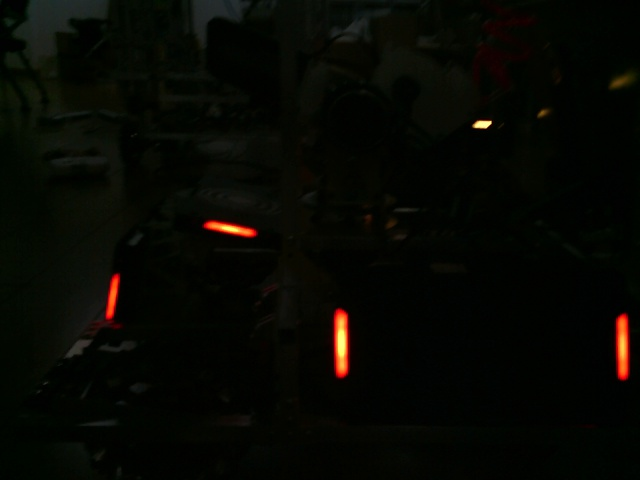lamp: (326, 309, 355, 377), (612, 317, 634, 383), (104, 272, 122, 326)
